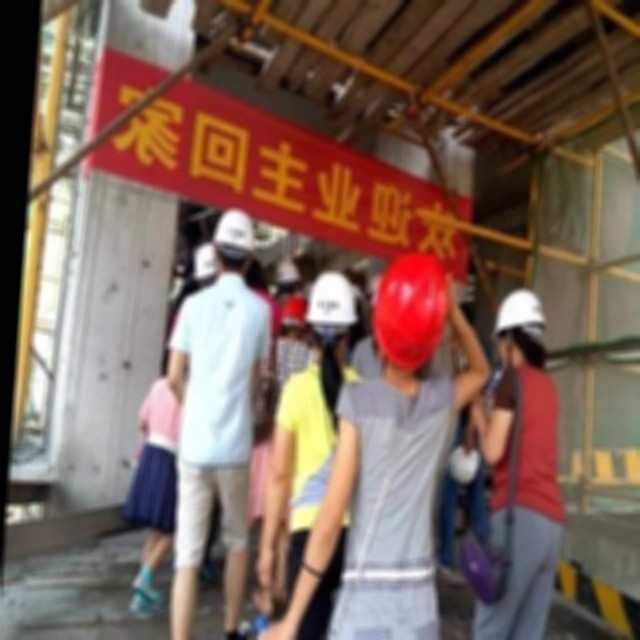Sin_Chaleco: (171, 273, 267, 463)
